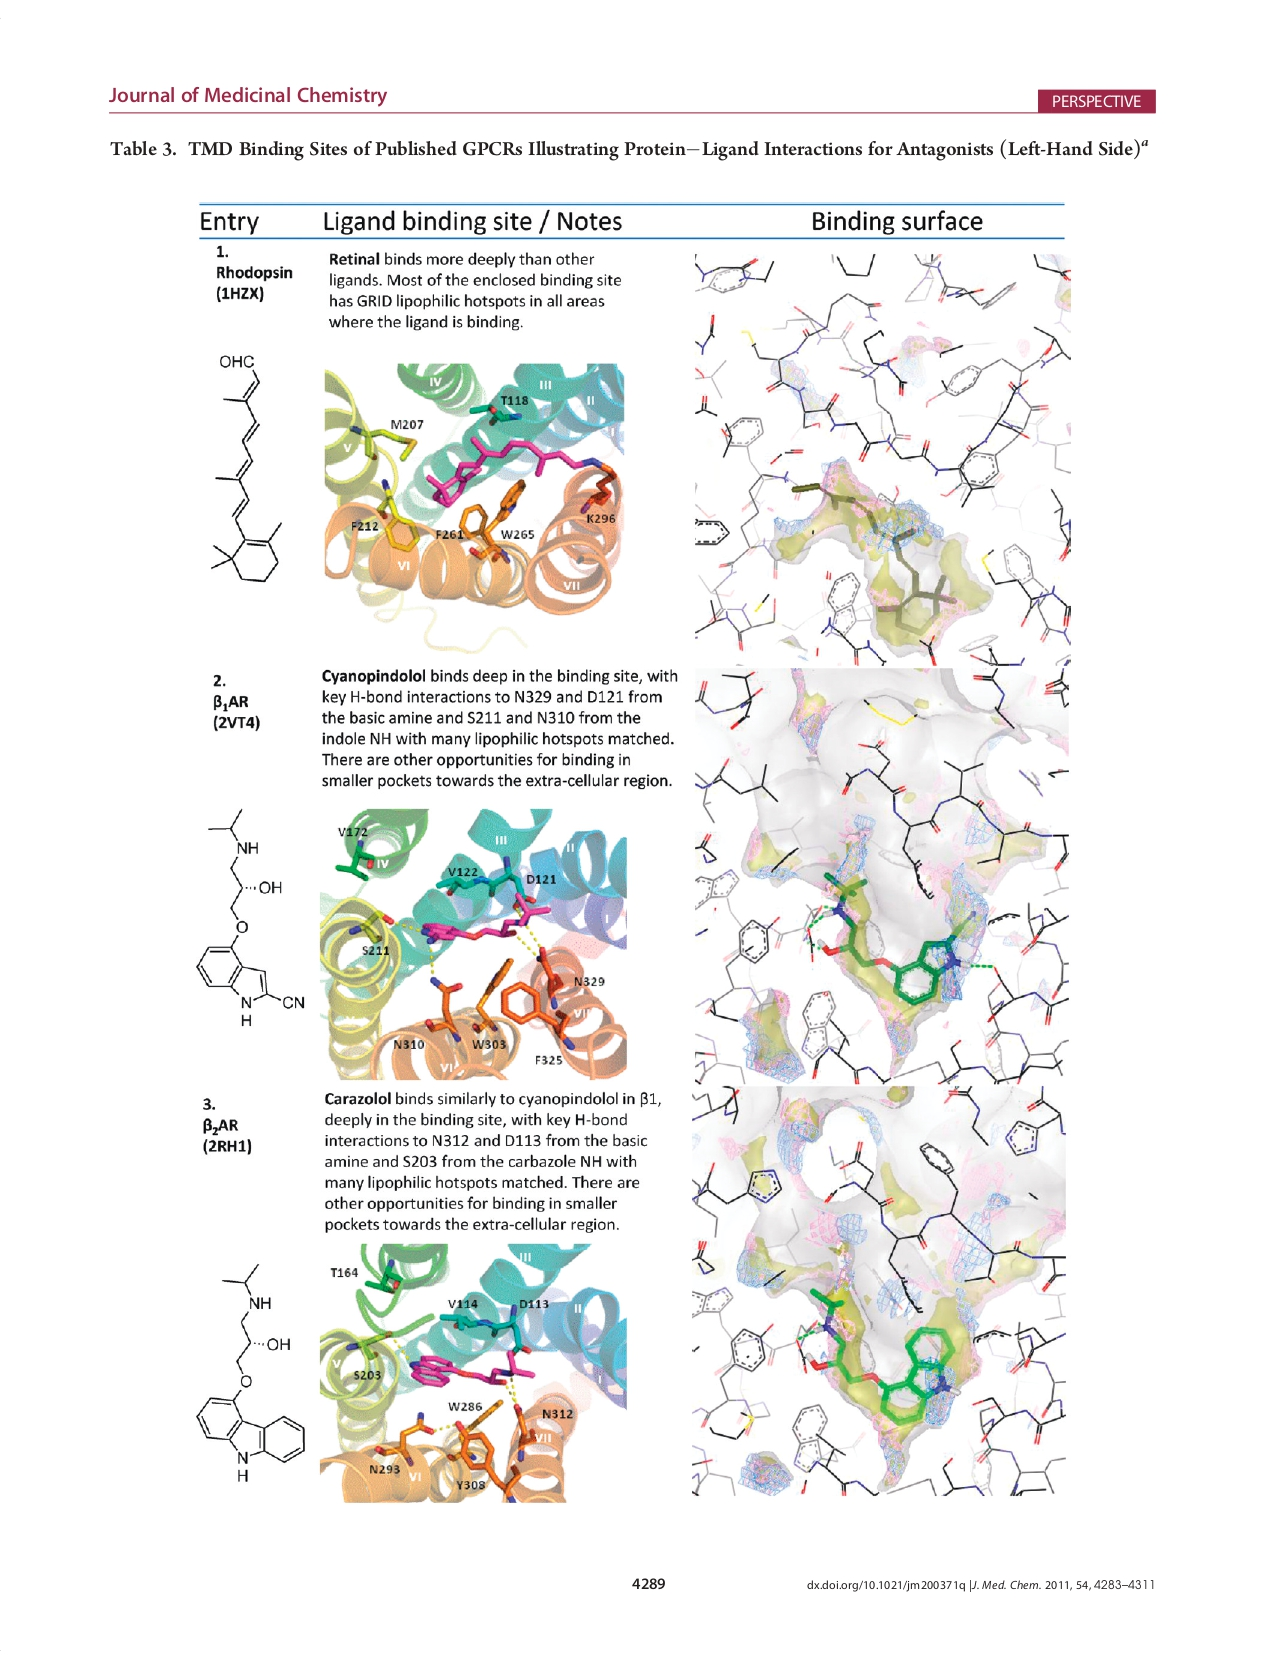exist_molecular: (191, 1262, 309, 1485), (194, 803, 309, 1025), (201, 347, 285, 584)
